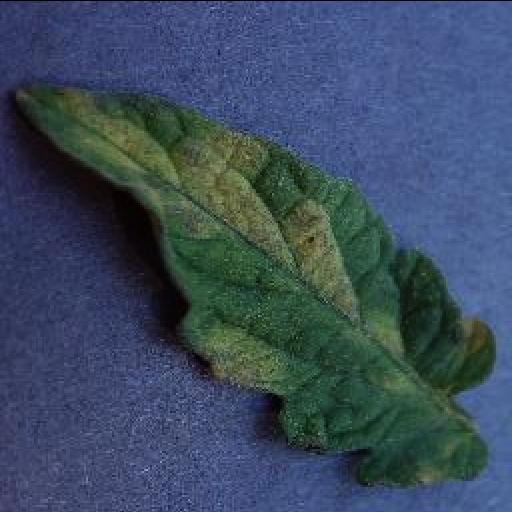disease_tomato: (10, 82, 490, 484)
